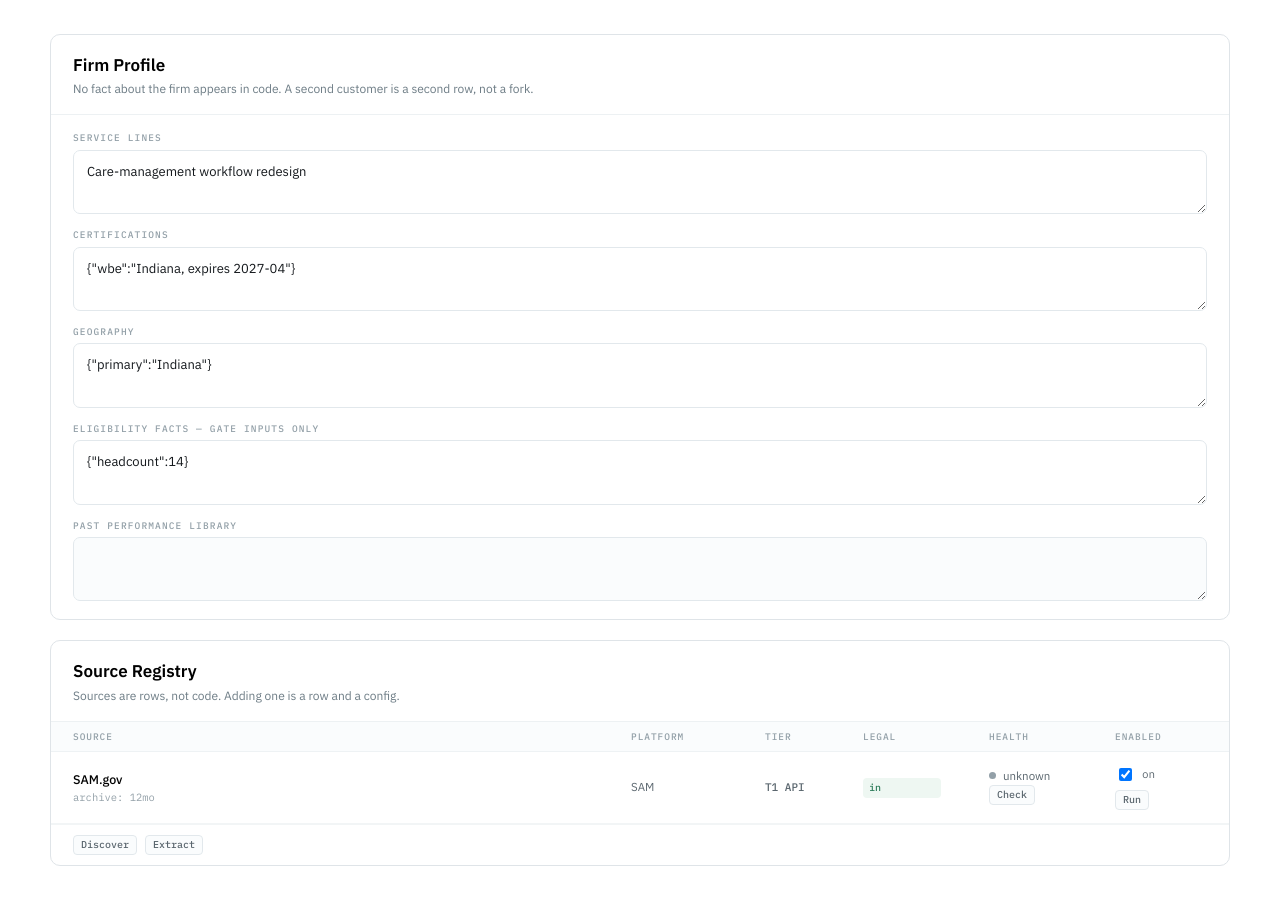
Scenario: a non-2xx from Check surfaces the server's error in that row, not swallowed
Click the button with aria-label "check sam.gov" at (1012, 795), box [989,785,1035,805]
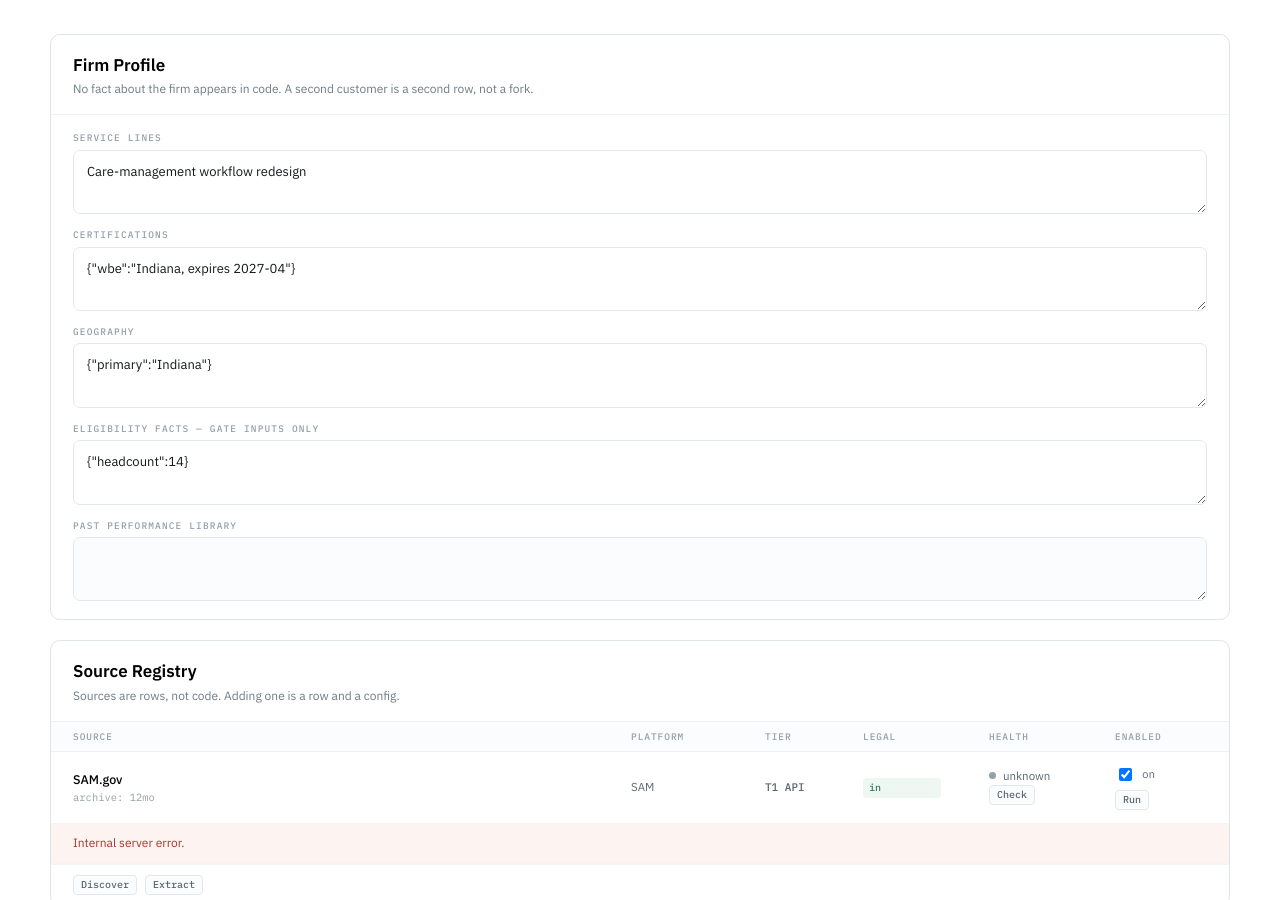
Now the message reads "Internal server error.", box [73,835,184,850]
